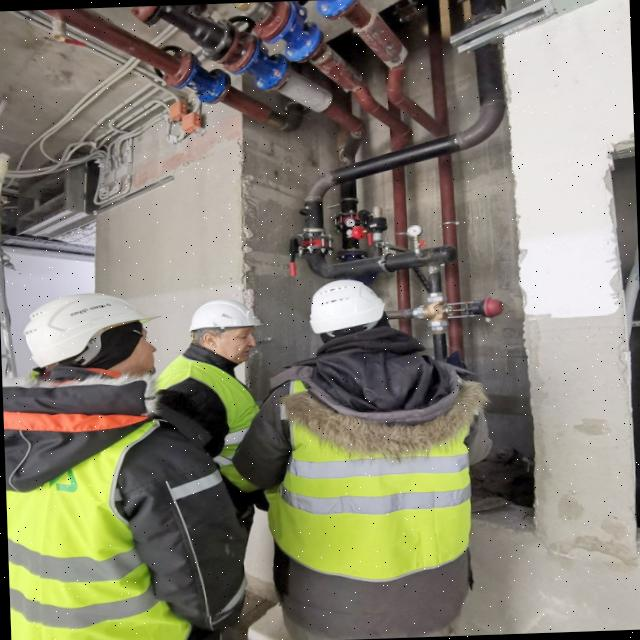Helmet: (19, 291, 159, 373), (309, 277, 390, 339), (187, 298, 263, 341)
Jacket: (279, 334, 478, 584), (2, 367, 184, 640), (167, 342, 263, 495)
